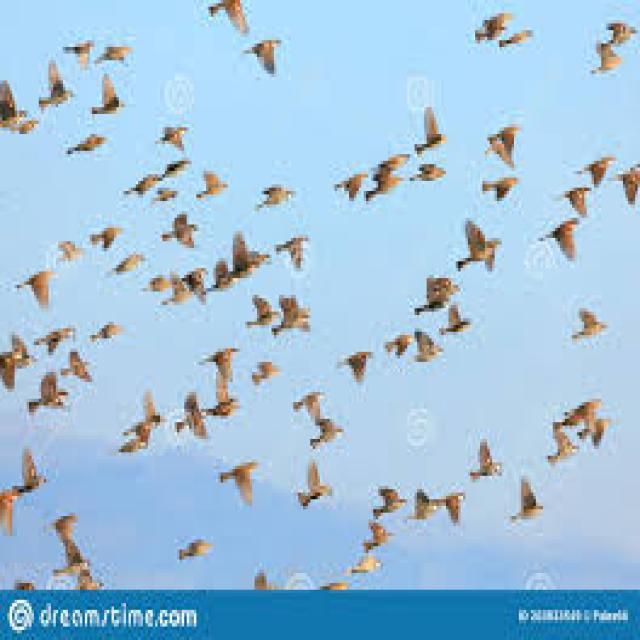bird: (550, 396, 607, 449), (291, 392, 343, 449), (216, 456, 265, 507), (484, 117, 528, 171), (121, 161, 175, 204), (541, 219, 589, 265), (240, 32, 288, 75), (409, 105, 448, 157), (469, 7, 517, 49), (328, 165, 374, 208), (571, 148, 620, 188), (570, 303, 612, 346), (177, 390, 210, 441), (34, 323, 77, 359), (335, 349, 373, 389), (480, 172, 526, 205), (200, 346, 242, 382), (462, 217, 494, 263), (408, 326, 444, 365), (178, 265, 212, 306), (248, 290, 281, 332), (85, 220, 124, 255), (194, 169, 231, 205), (42, 58, 71, 103), (64, 130, 112, 156), (171, 210, 202, 250), (97, 40, 137, 70), (381, 328, 416, 362), (248, 356, 283, 390), (154, 122, 191, 154), (256, 182, 296, 211), (109, 249, 148, 278), (86, 320, 128, 346), (176, 535, 216, 562), (67, 348, 95, 384), (20, 448, 42, 492), (4, 112, 38, 140), (498, 30, 536, 54), (144, 270, 174, 300), (161, 156, 192, 185), (54, 237, 85, 265), (373, 485, 403, 512), (365, 516, 391, 546), (154, 183, 181, 210)
